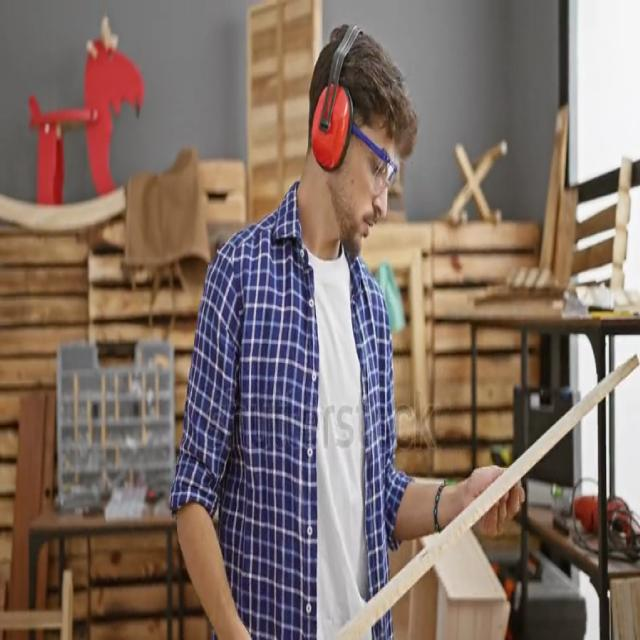Ear-Protection: (310, 72, 356, 178)
Glasses: (361, 136, 400, 197)
